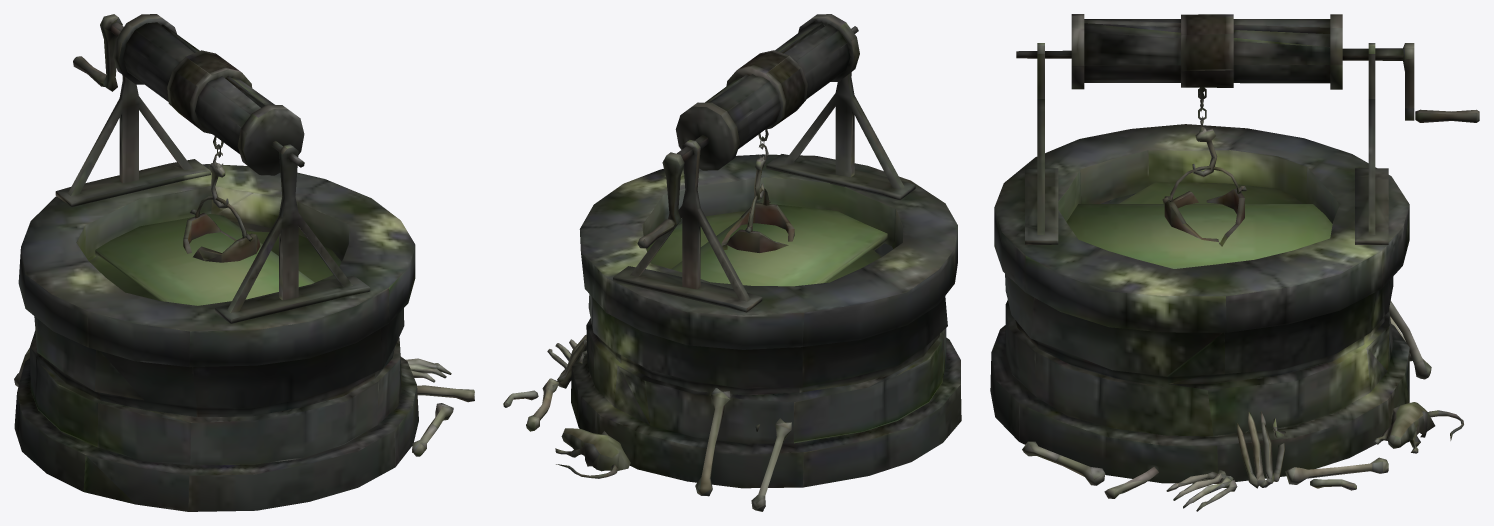
Rendered from plague_well.glb.
The picture shows the model from 3 angles, left to right: view 1: azimuth 30°, elevation 25°; view 2: azimuth 150°, elevation 25°; view 3: azimuth 270°, elevation 25°; orthographic projection. The views are drawn at different scales.
Parts seen in each view (by area): view 1: tripo_node_1e177046-7c44-4d14-a489-78be88063829; view 2: tripo_node_1e177046-7c44-4d14-a489-78be88063829; view 3: tripo_node_1e177046-7c44-4d14-a489-78be88063829.
Boxes of the visible parts, x1,y1,x2,y2 form: tripo_node_1e177046-7c44-4d14-a489-78be88063829: (14,14,474,511); tripo_node_1e177046-7c44-4d14-a489-78be88063829: (503,14,961,511); tripo_node_1e177046-7c44-4d14-a489-78be88063829: (990,14,1479,511).
Size of the model in its own units: 0.9902 by 0.8769 by 0.998.
Materials: 1 (1 with a texture image).
